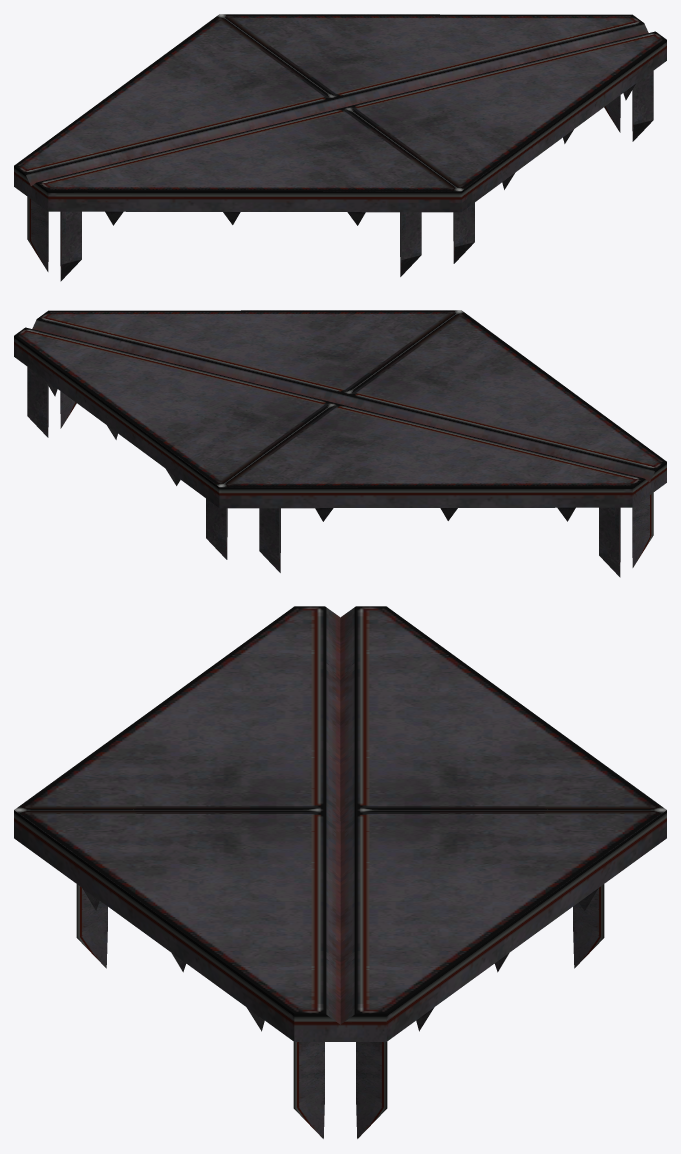
File: frn_jedi_dark_table_s02_l1.fbx
3 views of the same model, one above another, from view 1: azimuth 30°, elevation 25°; view 2: azimuth 150°, elevation 25°; view 3: azimuth 270°, elevation 25° (orthographic). The views are drawn at different scales.
Visible parts, largest first — view 1: mesh_node; view 2: mesh_node; view 3: mesh_node.
Part boxes in pixels (x1,y1,x2,y2): mesh_node: (14,14,666,281); mesh_node: (14,310,666,577); mesh_node: (14,606,666,1138).
Size of the model in its own units: 4.64 by 0.75 by 3.14.
1 material, 1 textured.
